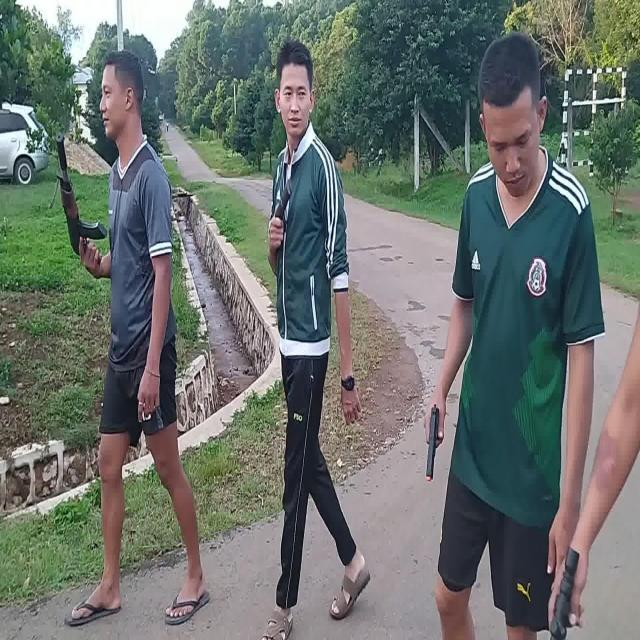gun: (57, 134, 107, 266), (427, 404, 440, 479)
